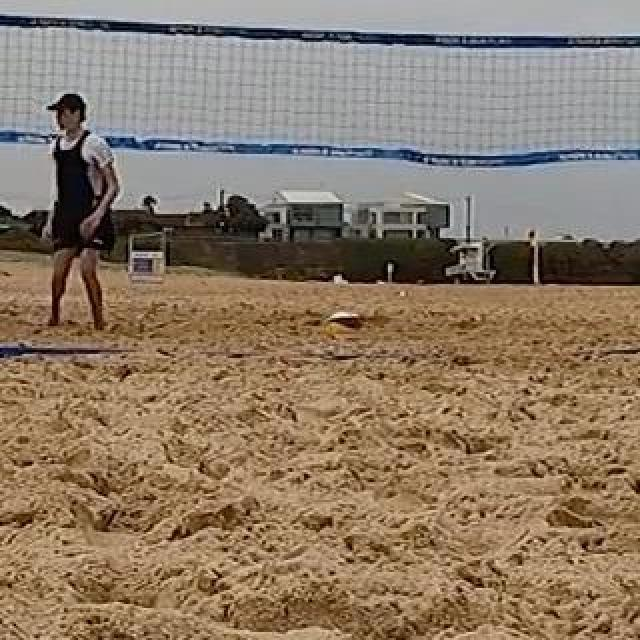volleyball: (320, 311, 364, 349)
